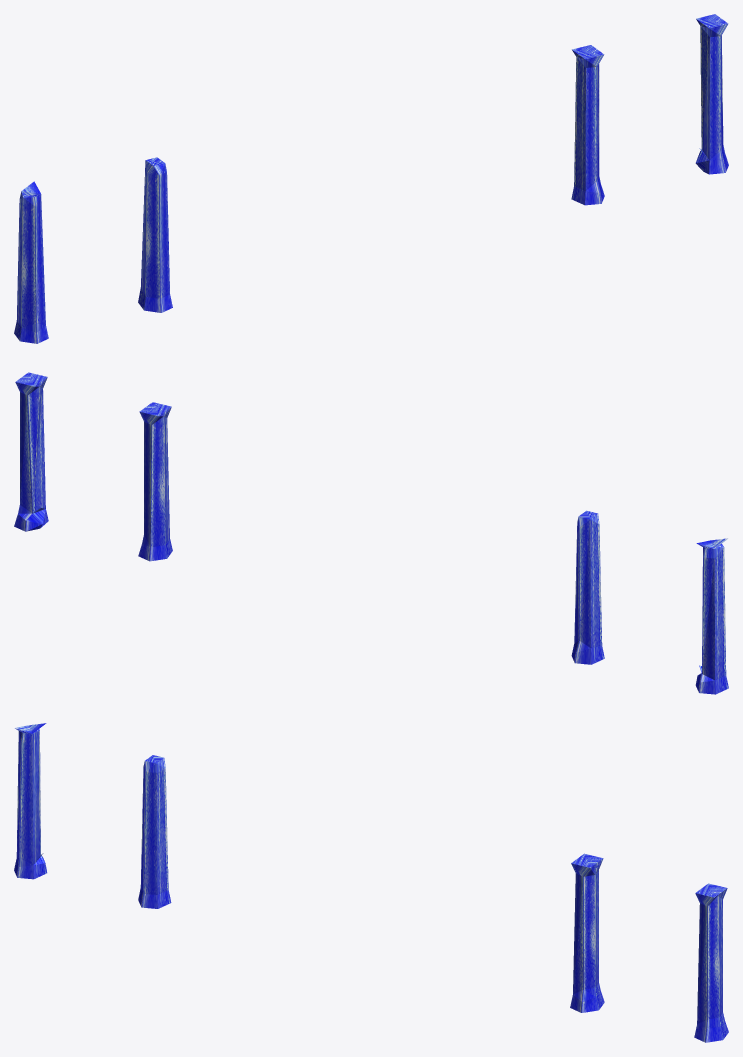
The picture shows the model from 3 angles, top to bottom: view 1: azimuth 30°, elevation 25°; view 2: azimuth 150°, elevation 25°; view 3: azimuth 330°, elevation 25°; orthographic projection.
Size of the model in its own units: 0.8484 by 0.1709 by 0.0465.
1 material, 1 textured.
